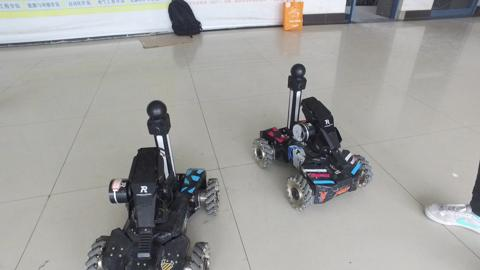chariot: (75, 92, 230, 270), (245, 61, 378, 217)
